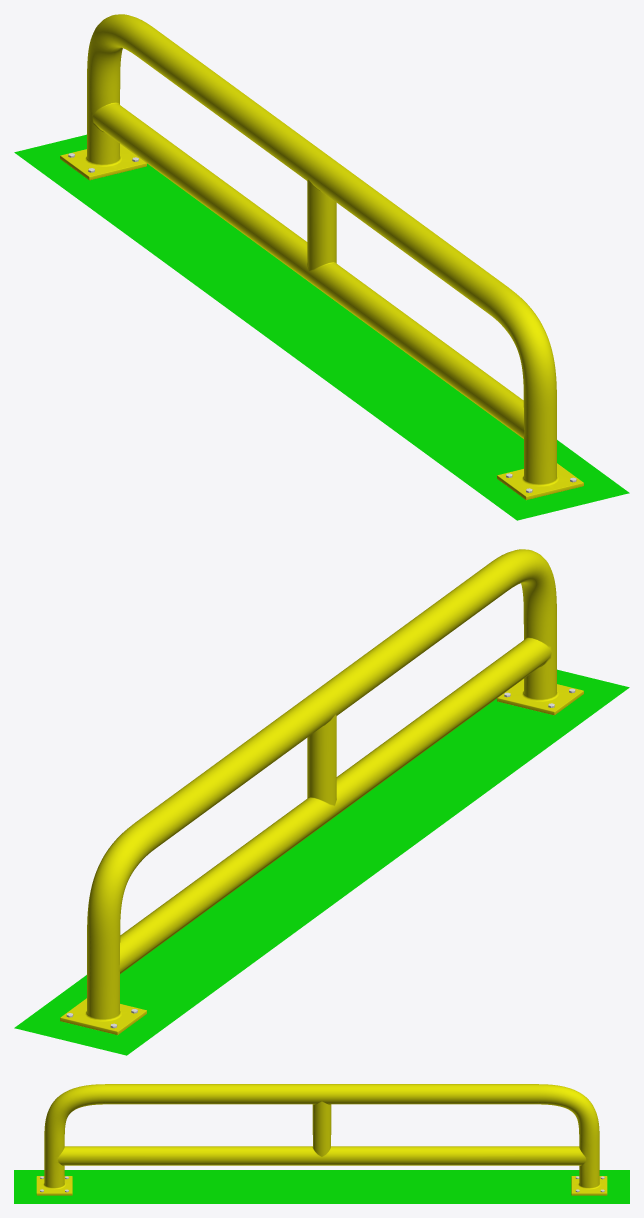
Rendered from steelBarrier.fbx.
3 renders of one model, top to bottom at view 1: azimuth 30°, elevation 25°; view 2: azimuth 150°, elevation 25°; view 3: azimuth 270°, elevation 25°, orthographic. The views are drawn at different scales.
Visible parts, largest first — view 1: steelBarrier, shdw_decal; view 2: steelBarrier, shdw_decal; view 3: steelBarrier, shdw_decal.
Boxes of the visible parts, x1,y1,x2,y2 form: steelBarrier: (60,14,583,500); shdw_decal: (14,134,629,520); steelBarrier: (60,549,583,1035); shdw_decal: (14,669,629,1055); steelBarrier: (36,1084,607,1195); shdw_decal: (14,1170,629,1203).
Size of the model in its own units: 46.88 by 66.08 by 362.
